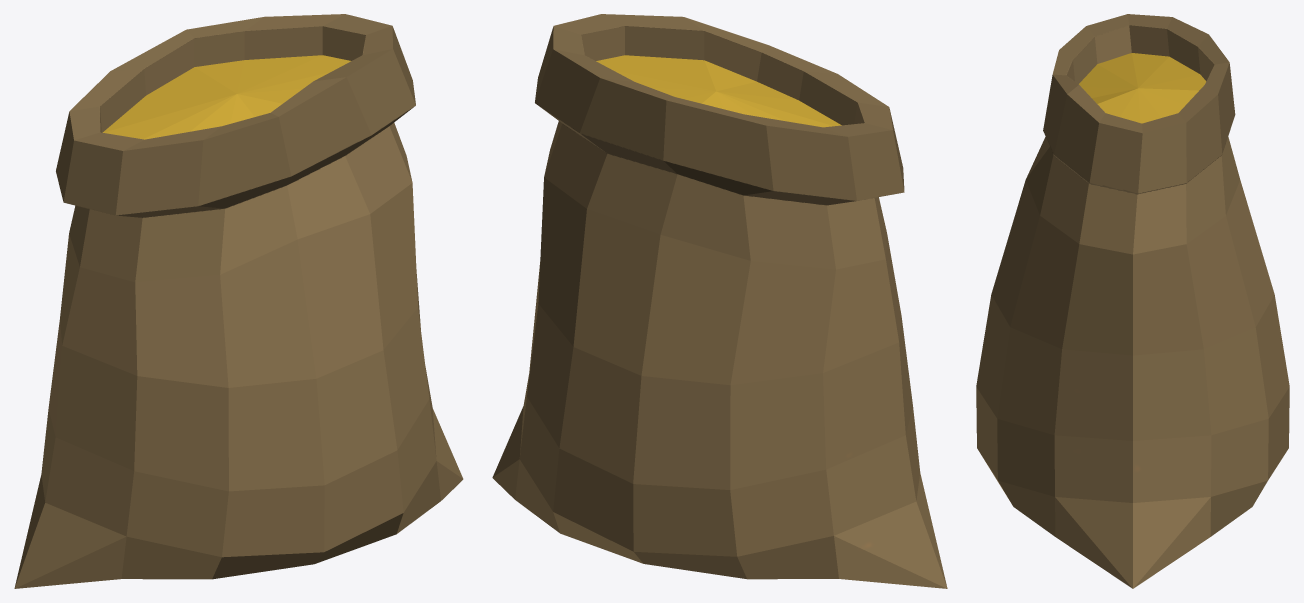
Rendered from GrainSack.fbx.
3 views of the same model, side by side, from view 1: azimuth 30°, elevation 25°; view 2: azimuth 150°, elevation 25°; view 3: azimuth 270°, elevation 25° (orthographic). The views are drawn at different scales.
Visible parts, largest first — view 1: Cylinder; view 2: Cylinder; view 3: Cylinder.
Part boxes in pixels (x1,y1,x2,y2): Cylinder: (14,14,463,588); Cylinder: (492,14,947,588); Cylinder: (976,14,1289,588).
Bounding box in the file's own units: 58.43 × 57.91 × 38.6.
